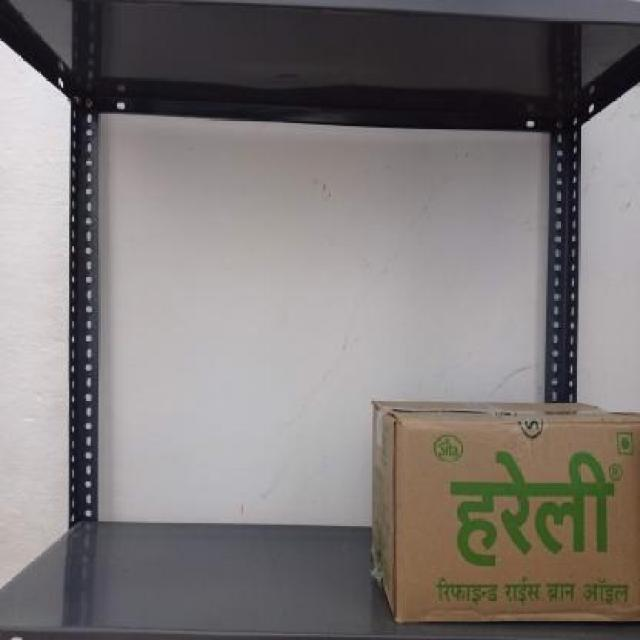box: (395, 420, 640, 623)
